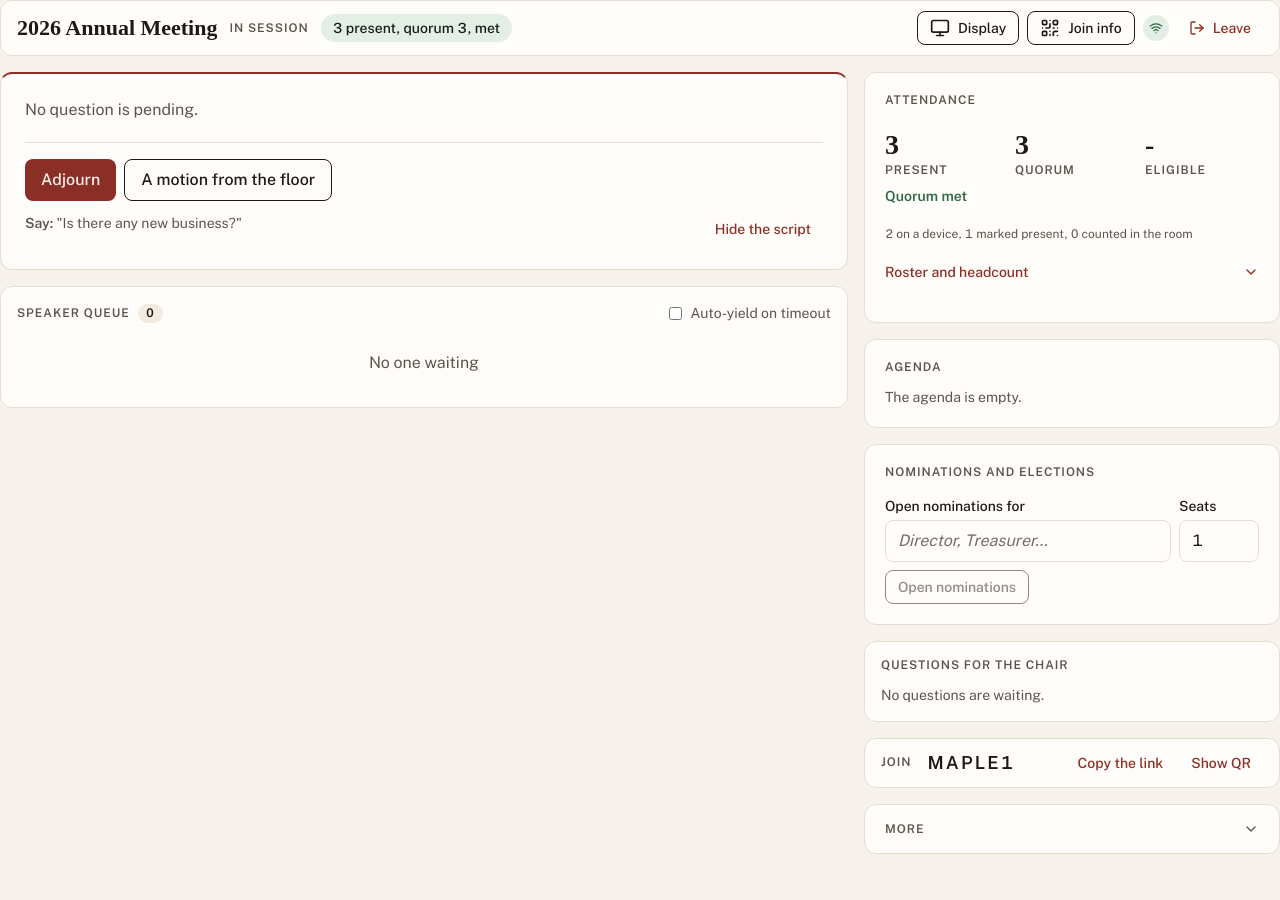
ChairConsole › business from the floor › records a motion made by a member without a phone
This screenshot has width=1280, height=900.
Step 1. Click the button "A motion from the floor" → (228, 180), box [124,159,332,201]
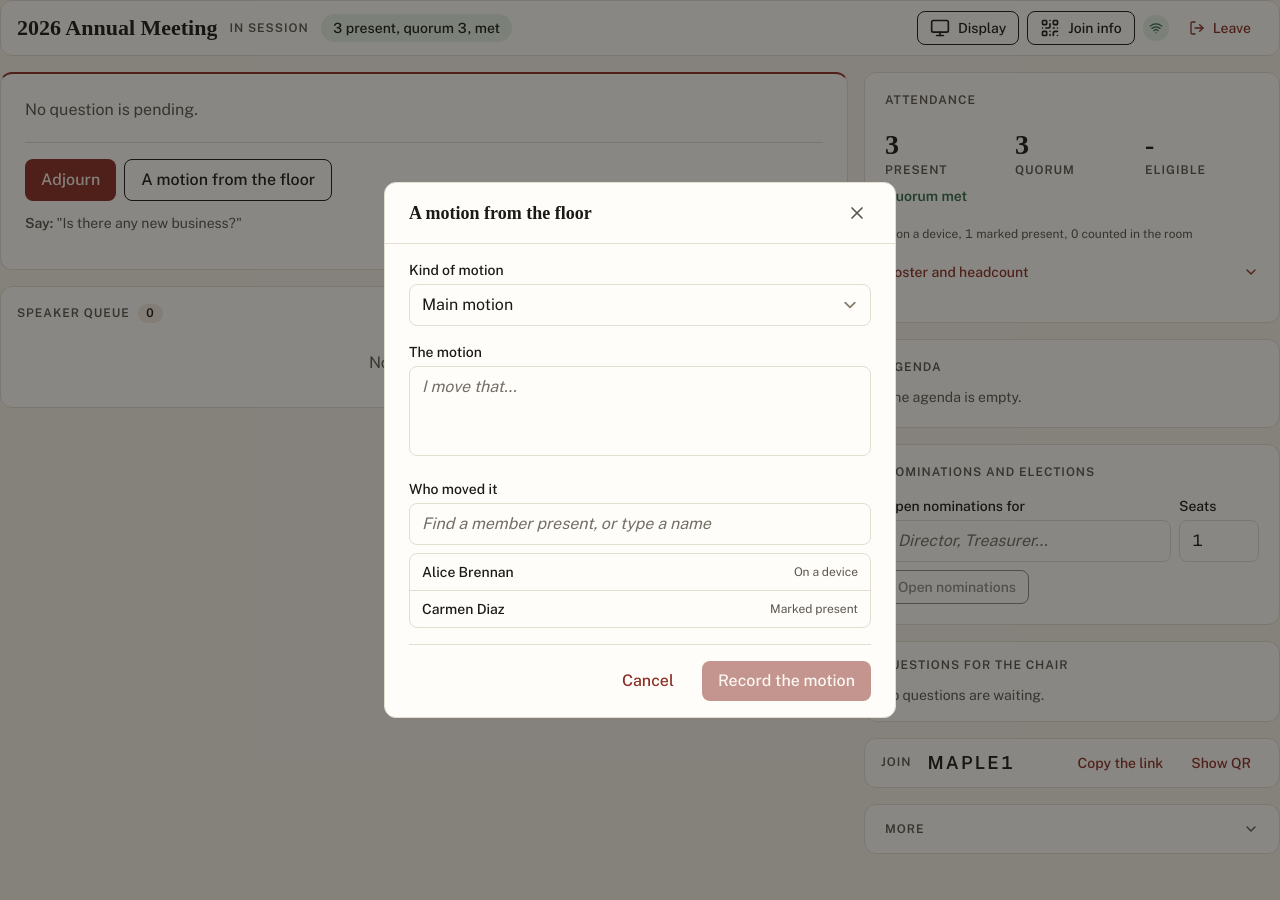
Expected: the dropdown labelled "Kind of motion" shows "Main motion", [409,284,871,326]
Step 2. Type "Plant a hedge along the fence" into the text box labelled "The motion" → (640, 411), box [409,366,871,456]
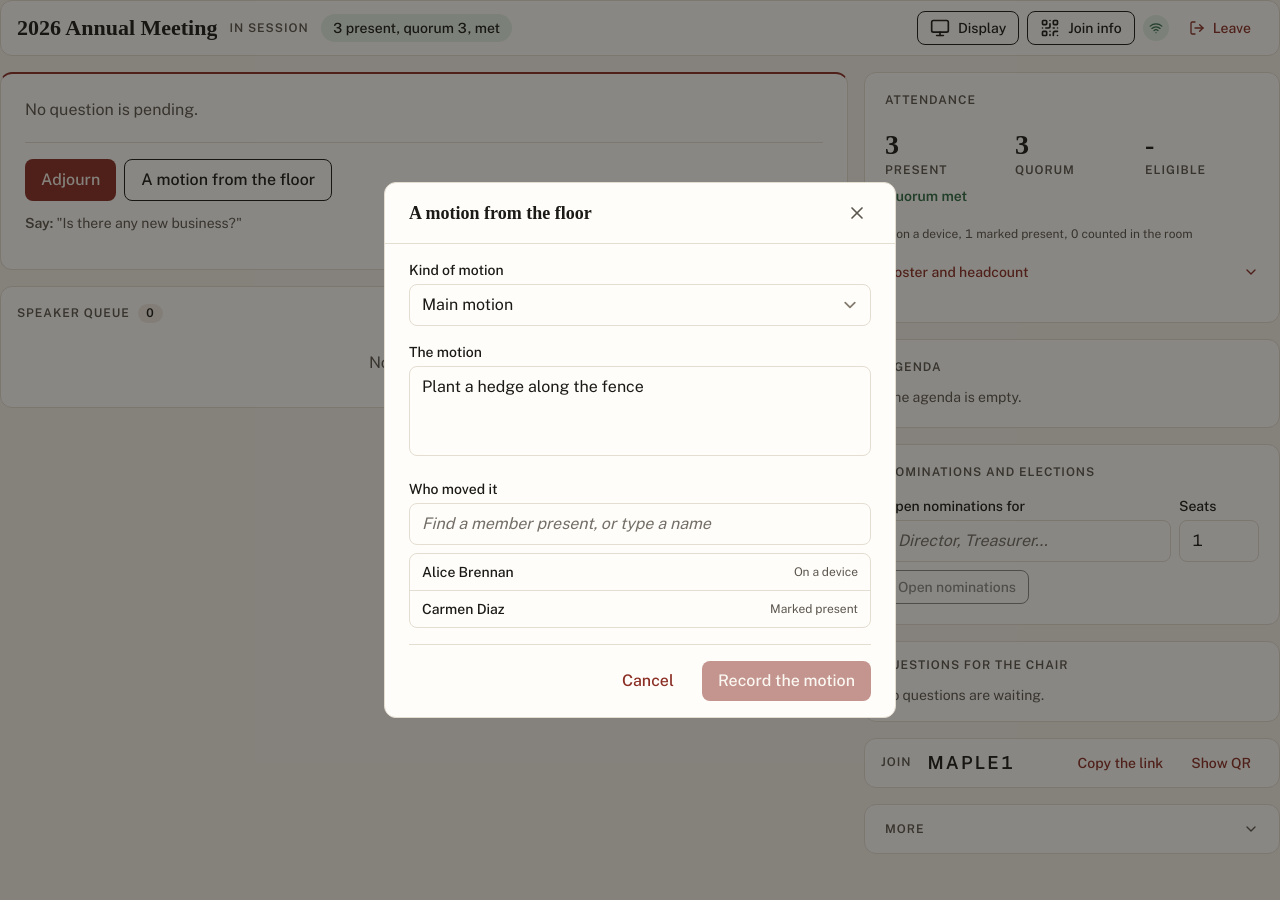
Step 3. Type "carm" into the field labelled "Who moved it" → (640, 524), box [409,503,871,545]
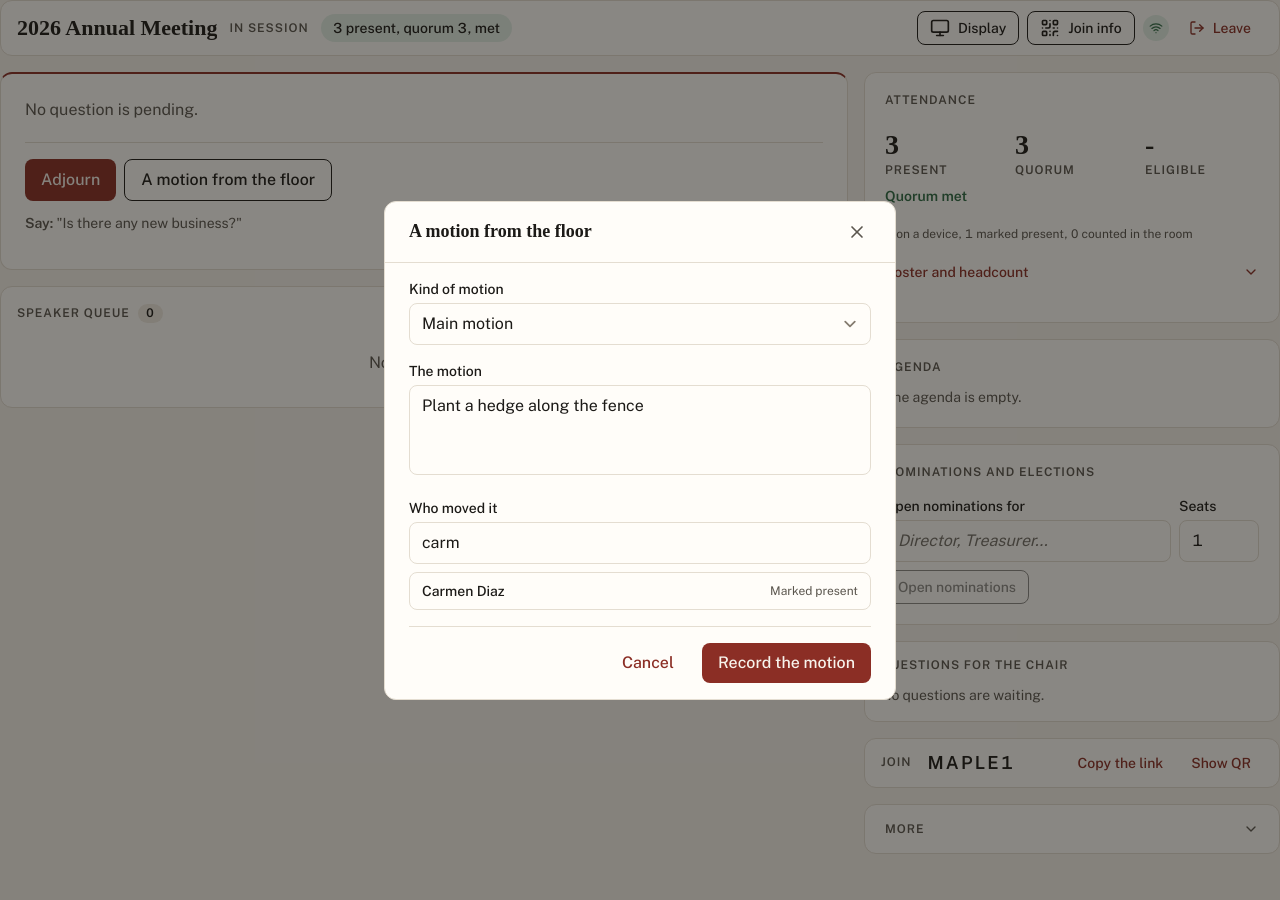
Step 4. Click the button "Carmen Diaz Marked present" → (463, 590), box [410,572,870,608]
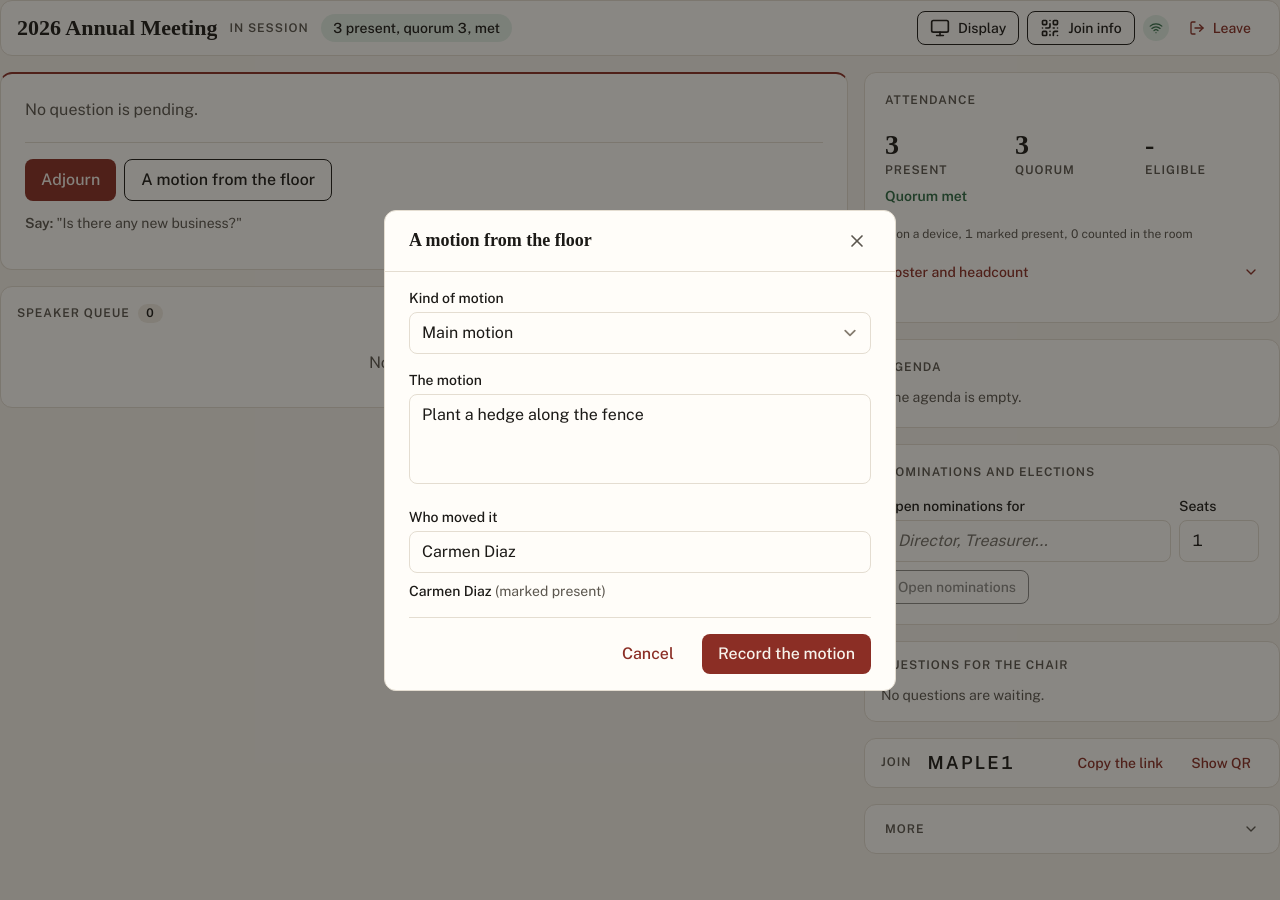
Step 5. Click the button "Record the motion" → (786, 654), box [702,634,871,674]
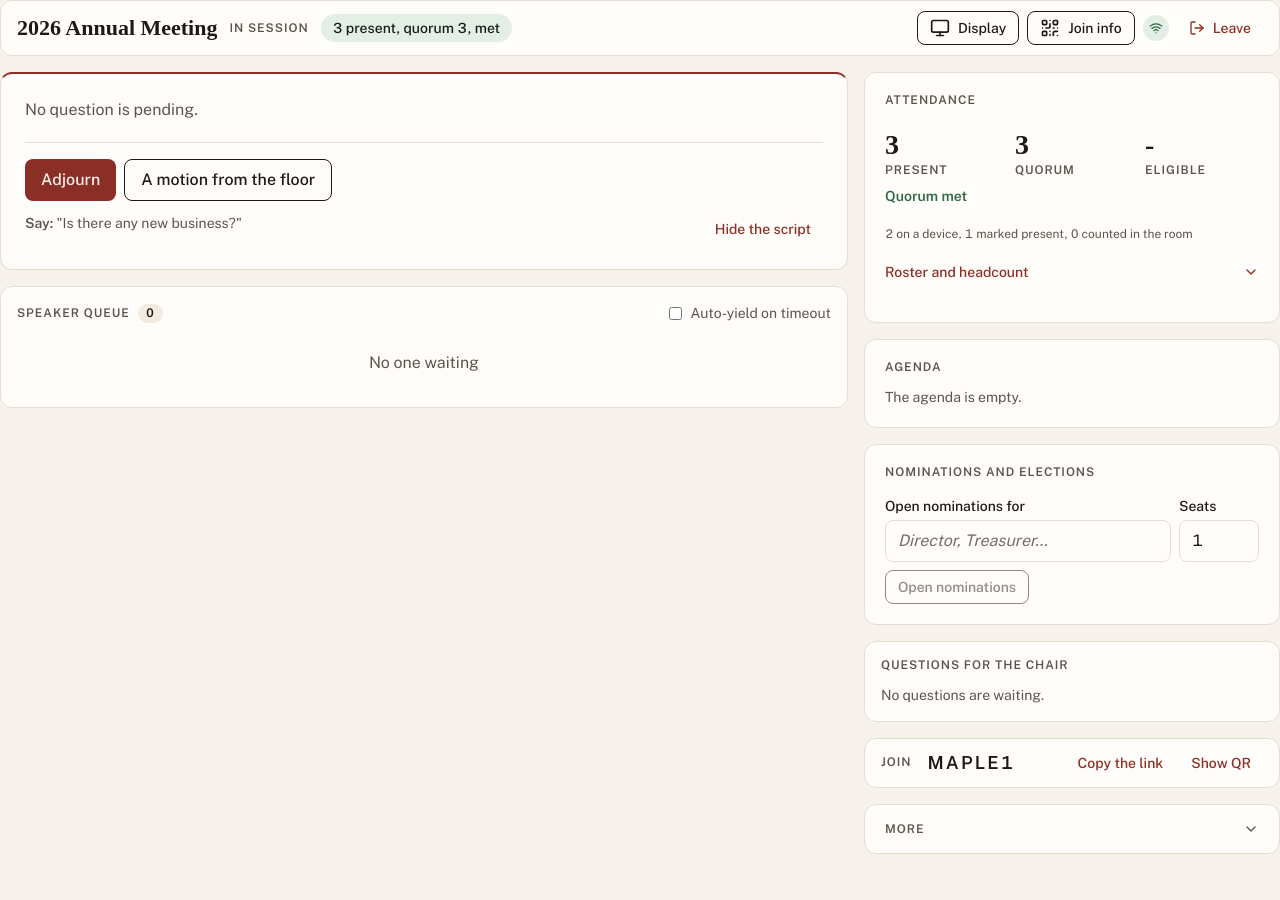
Expected: the dialog is gone
